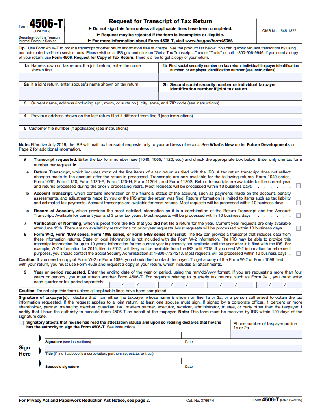checkbox: (295, 182, 302, 189), (295, 224, 302, 231), (295, 200, 302, 206), (295, 212, 301, 219), (295, 250, 302, 256), (18, 319, 24, 326)
textbox: (16, 112, 303, 127), (16, 124, 303, 139), (18, 99, 304, 114), (17, 79, 160, 102), (17, 61, 160, 83), (157, 62, 304, 83), (157, 80, 304, 101), (230, 320, 301, 340)
textline: (45, 343, 301, 352), (44, 356, 183, 365), (45, 331, 183, 340), (180, 356, 304, 365), (78, 161, 141, 169), (180, 331, 232, 340), (157, 280, 209, 289), (107, 280, 160, 288), (206, 281, 259, 289), (254, 281, 303, 289)
